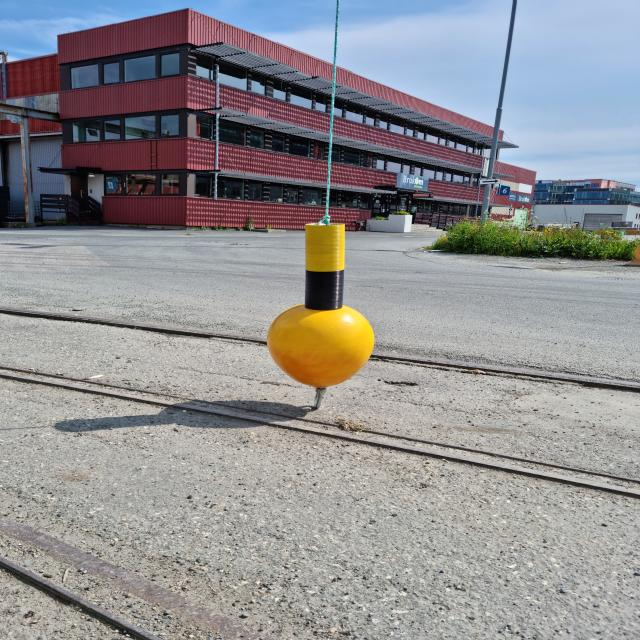west: (265, 224, 376, 386)
